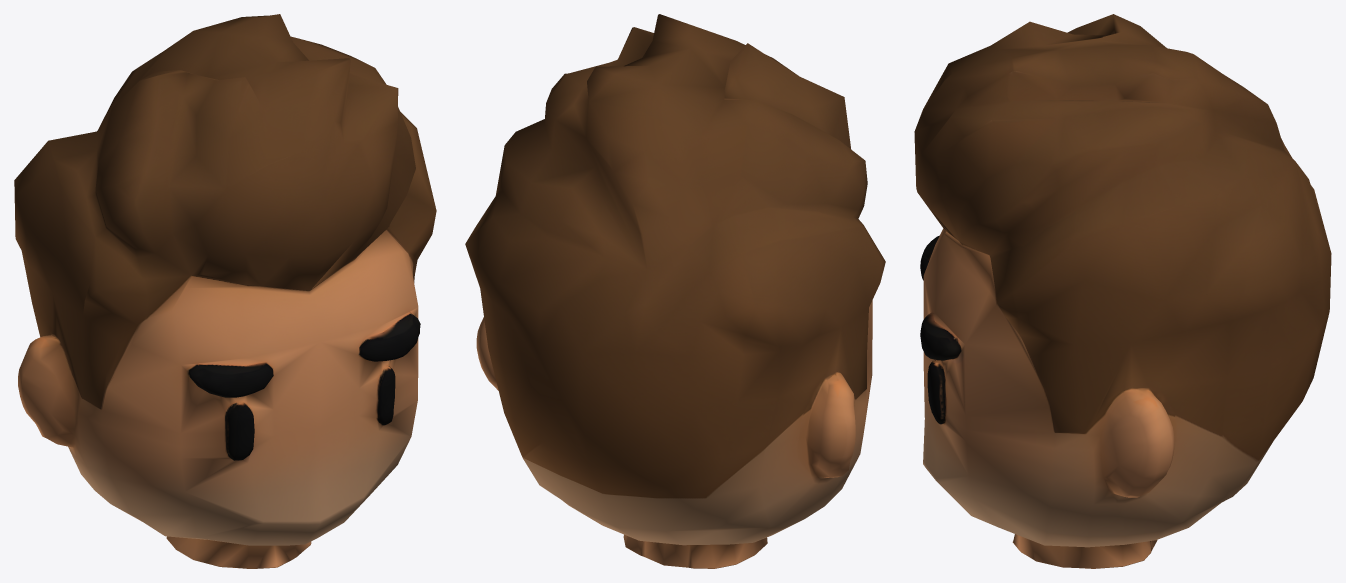
File: hy3-lamina.glb
3 views of the same model, side by side, from view 1: azimuth 30°, elevation 25°; view 2: azimuth 150°, elevation 25°; view 3: azimuth 270°, elevation 25° (orthographic). The views are drawn at different scales.
Parts seen in each view (by area): view 1: material; view 2: material; view 3: material.
Part boxes in pixels (box(x1,y1,x2,y2)): material: box(14, 14, 436, 568); material: box(465, 14, 885, 568); material: box(914, 14, 1331, 568).
Bounding box in the file's own units: 1.54 × 1.9 × 1.41.
1 material, 1 textured.
